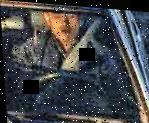seatbelt: (62, 19, 98, 69)
